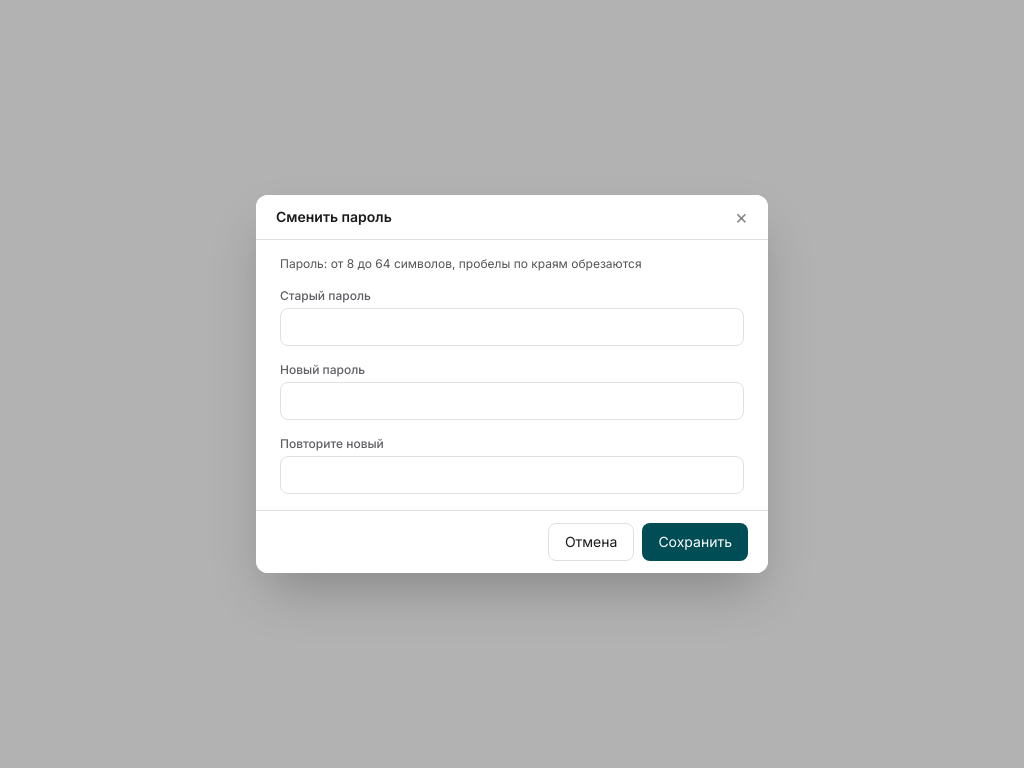
Test: PasswordModal — wrong current password › 401 AUTH_INVALID_CREDENTIALS → inline «Неверный пароль», modal stays open
Step 1. Type "wrong123" into the password field with test id "password-current" → (512, 327), box [280, 308, 744, 346]
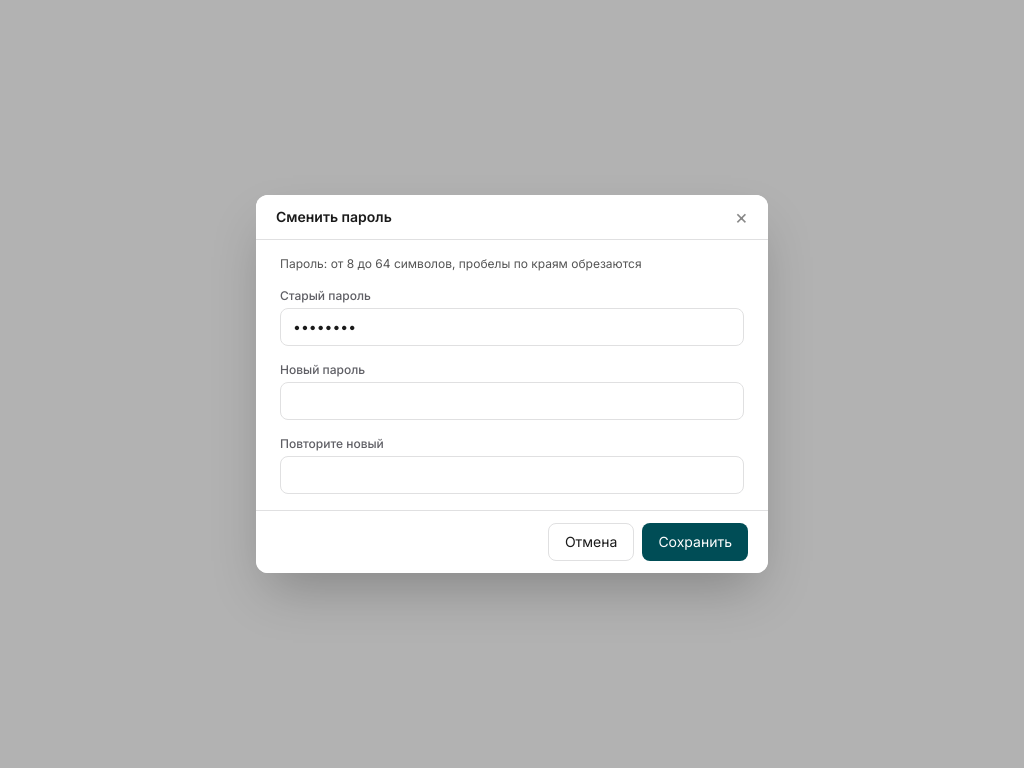
Step 2. Type "new12345" into the password field with test id "password-new" → (512, 401), box [280, 382, 744, 420]
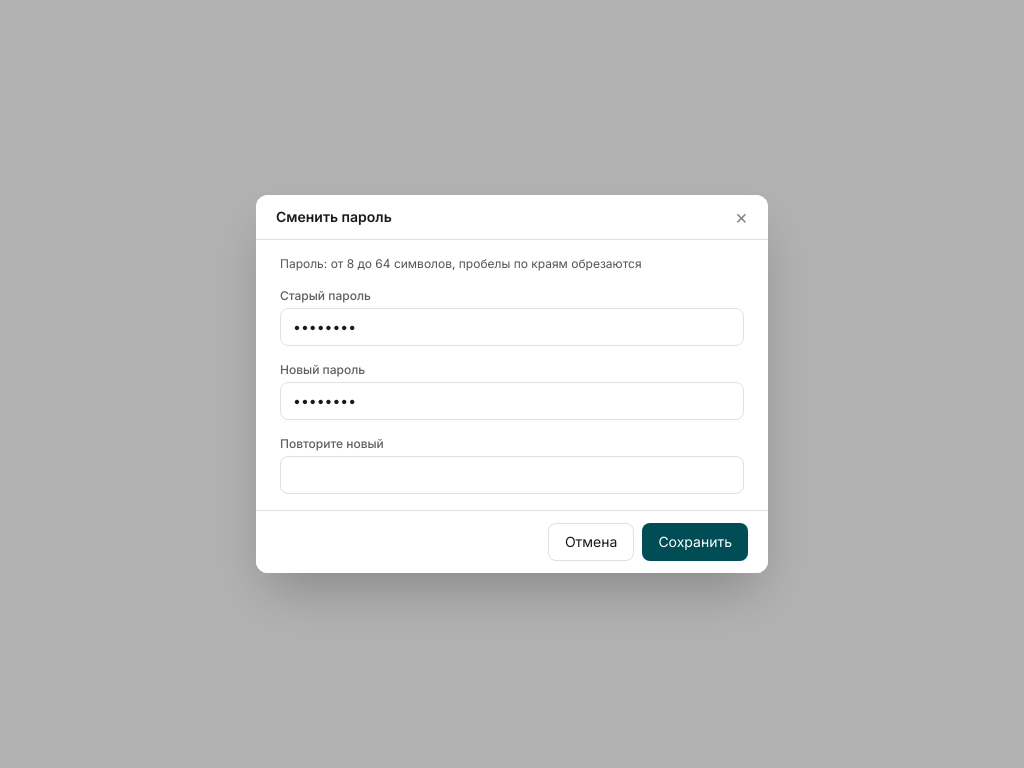
Step 3. Type "new12345" into the password field with test id "password-repeat" → (512, 475), box [280, 456, 744, 494]
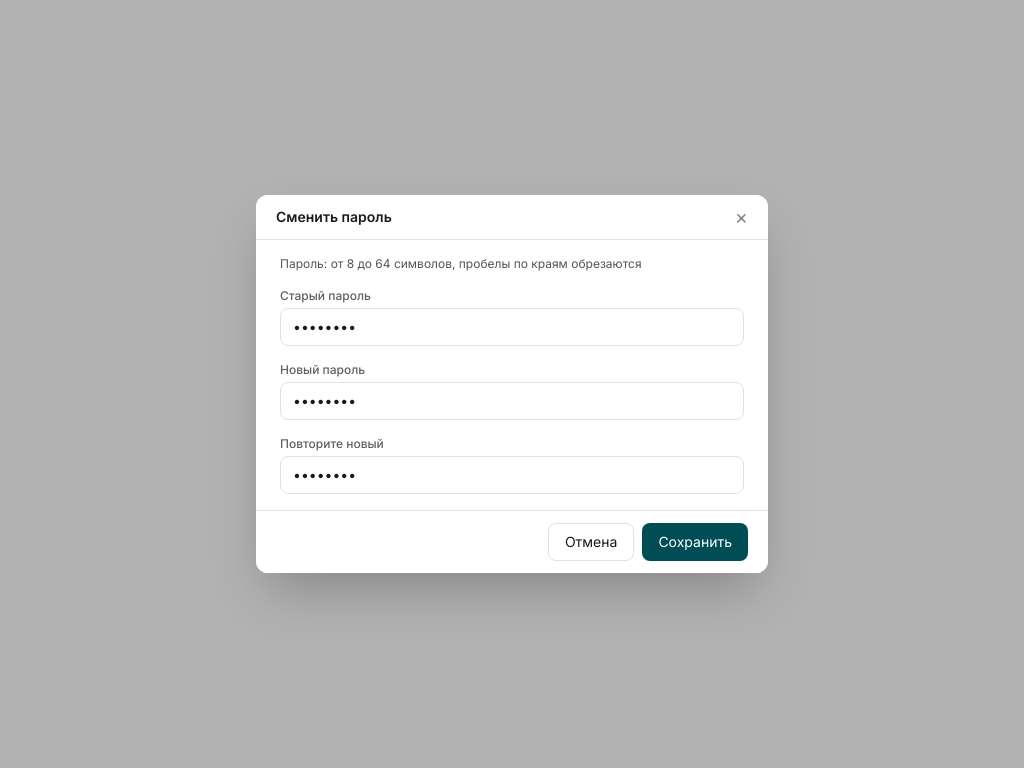
Step 4. Click the button with test id "password-submit" → (695, 542), box [642, 523, 748, 561]
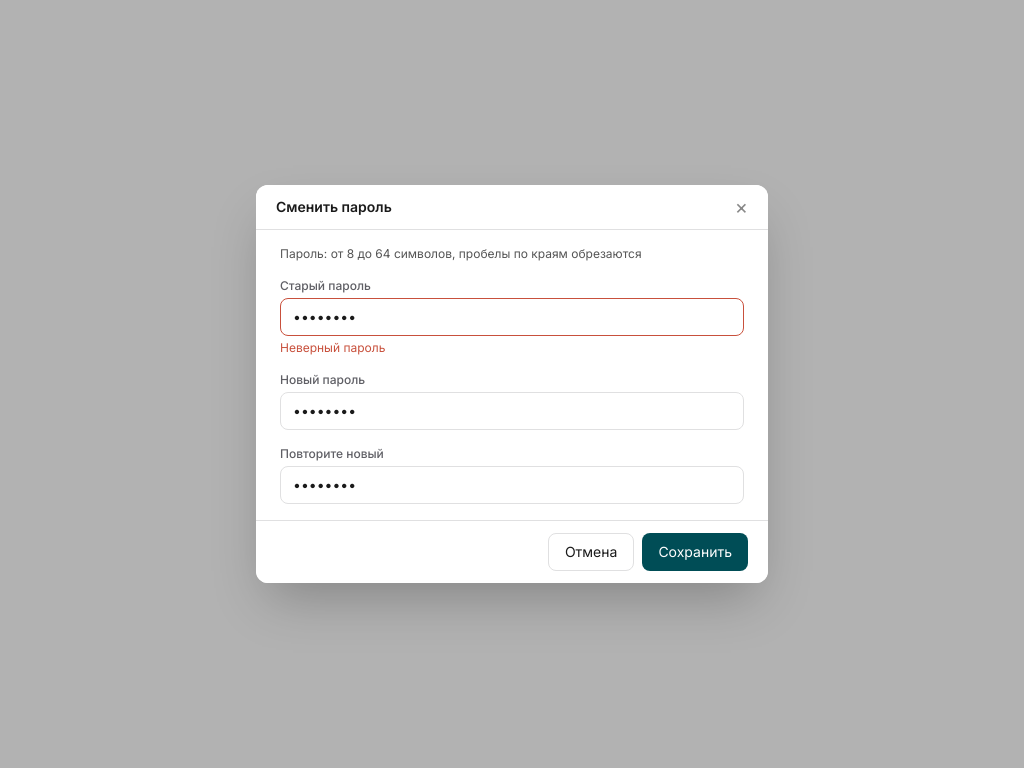
Expected: the text with test id "password-current-error" reads "Неверный пароль", [280, 340, 385, 355]
